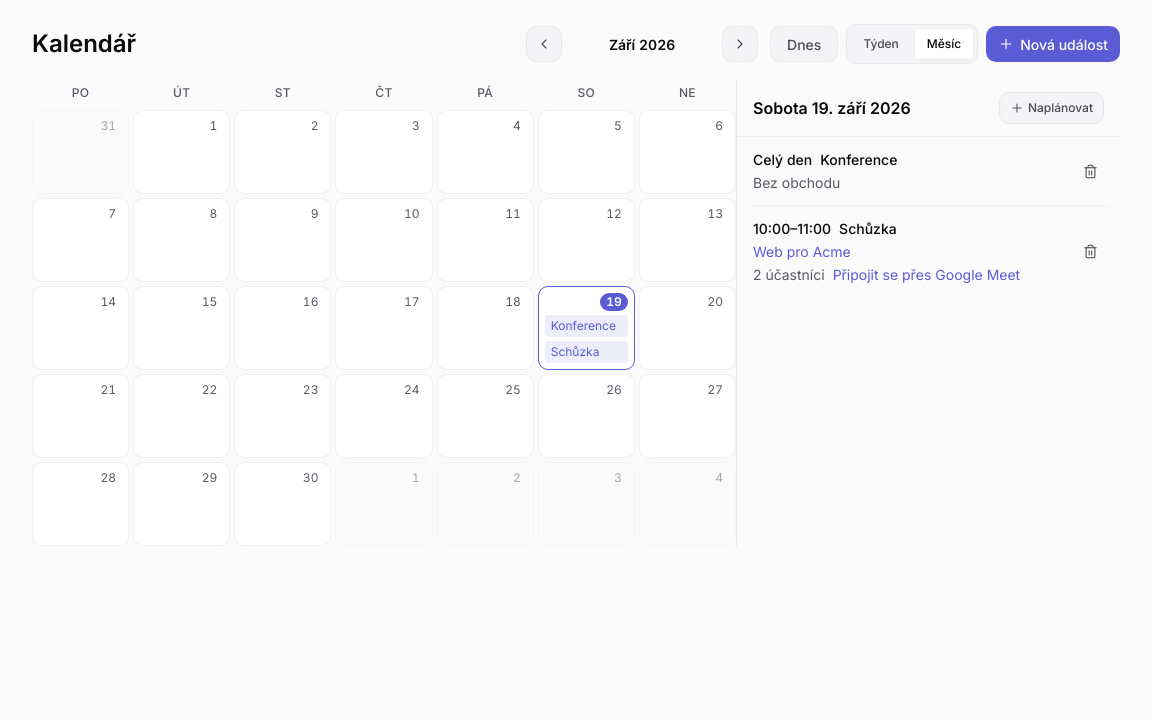
Test: CalendarPage day panel › clicking the row opens the event for edit; the delete button stops the row click
This screenshot has width=1152, height=720.
Click the button named "Smazat událost Schůzka" at (1090, 252), box [1077,238,1104,265]
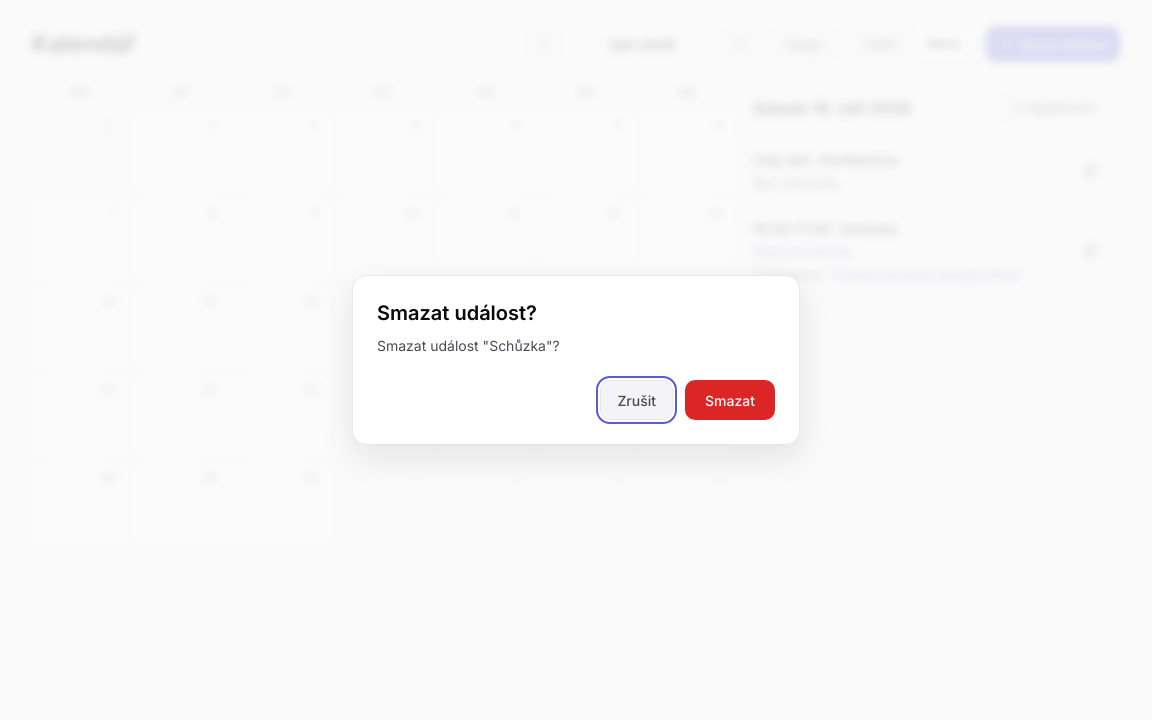
Expected: the button with test id "confirm-dialog-confirm" is shown, [685,380,775,420]
Click the button with test id "confirm-dialog-cancel" at (637, 400), box [600,380,673,420]
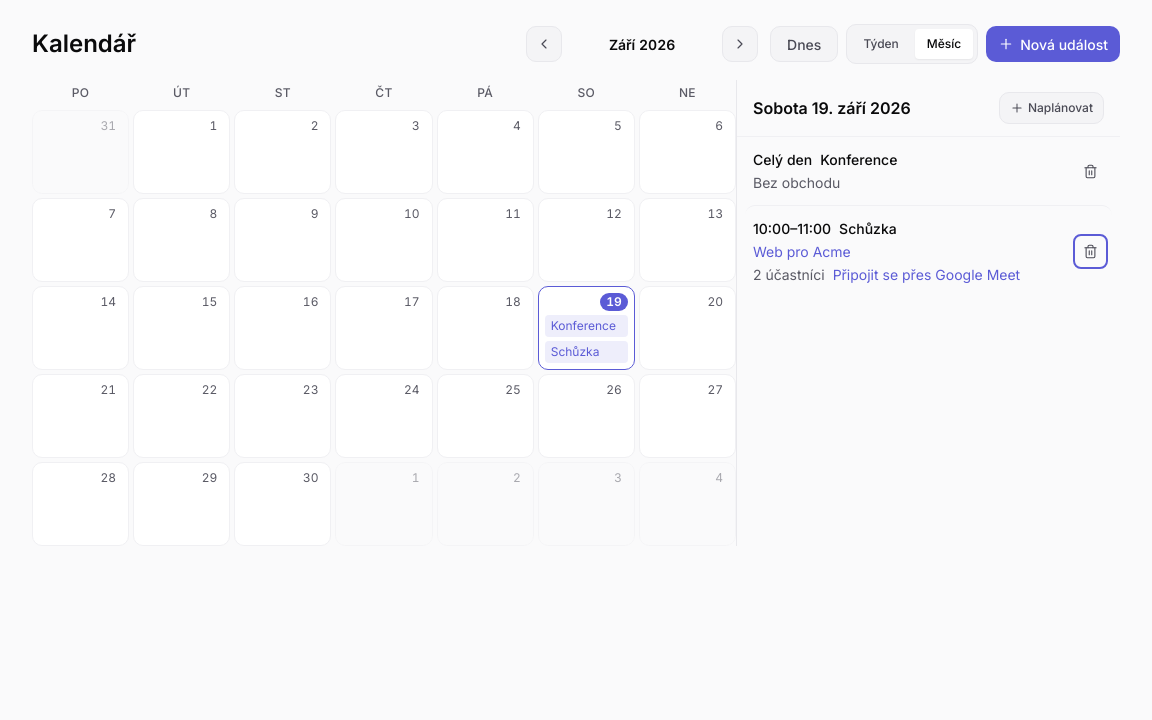
Expected: the heading "Upravit událost" is not shown
Click the list item that starts with "Schůzka" at (928, 251), box [745,205,1112,297]
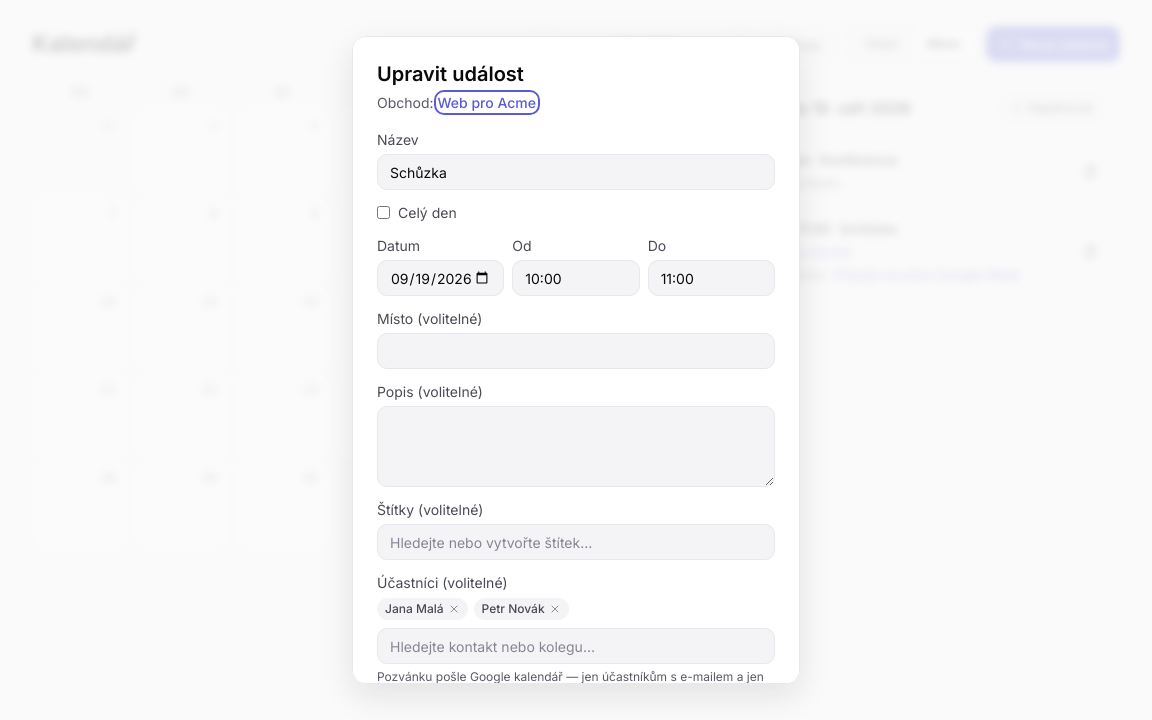
Expected: the heading "Upravit událost" is shown, [377,62,524,86]
Expected: the field showing "Schůzka" is shown, [377,154,775,190]
